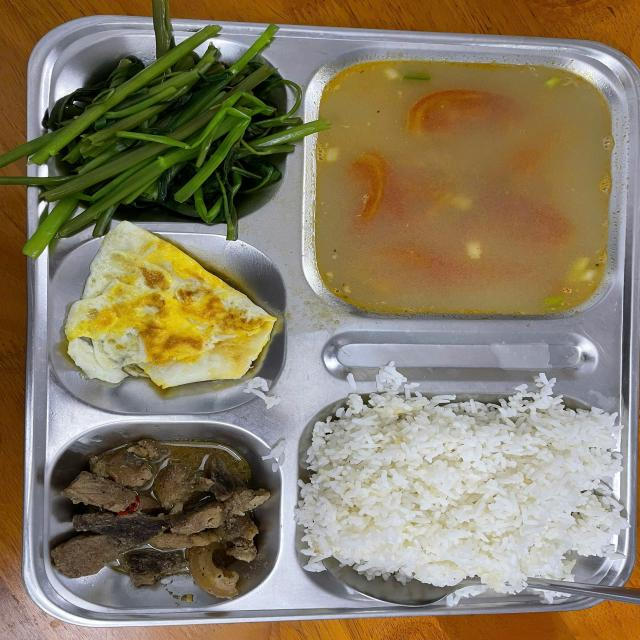canhchua: (318, 64, 611, 313)
rauxao: (52, 48, 291, 227)
salad: (314, 397, 620, 583)
thitkhogung: (56, 437, 269, 605)
trungluoc: (54, 215, 291, 397)
